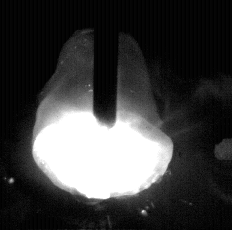arame: (94, 0, 118, 129)
poca: (31, 0, 173, 230)
